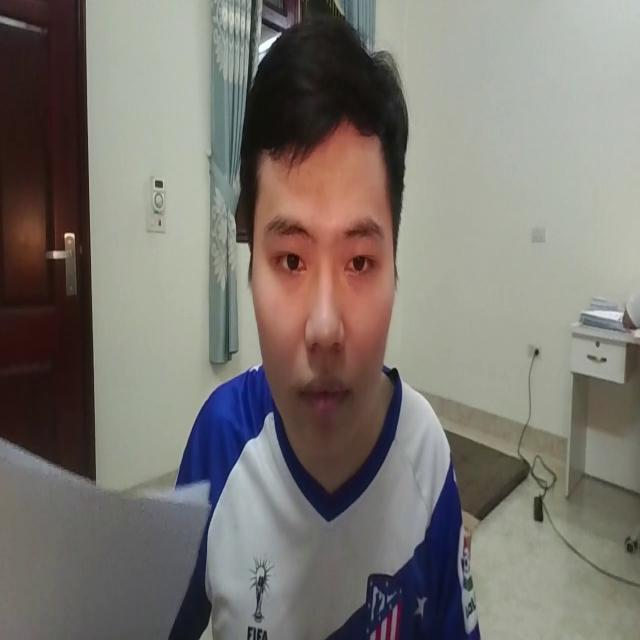book: (0, 408, 217, 640)
student: (155, 10, 489, 640)
